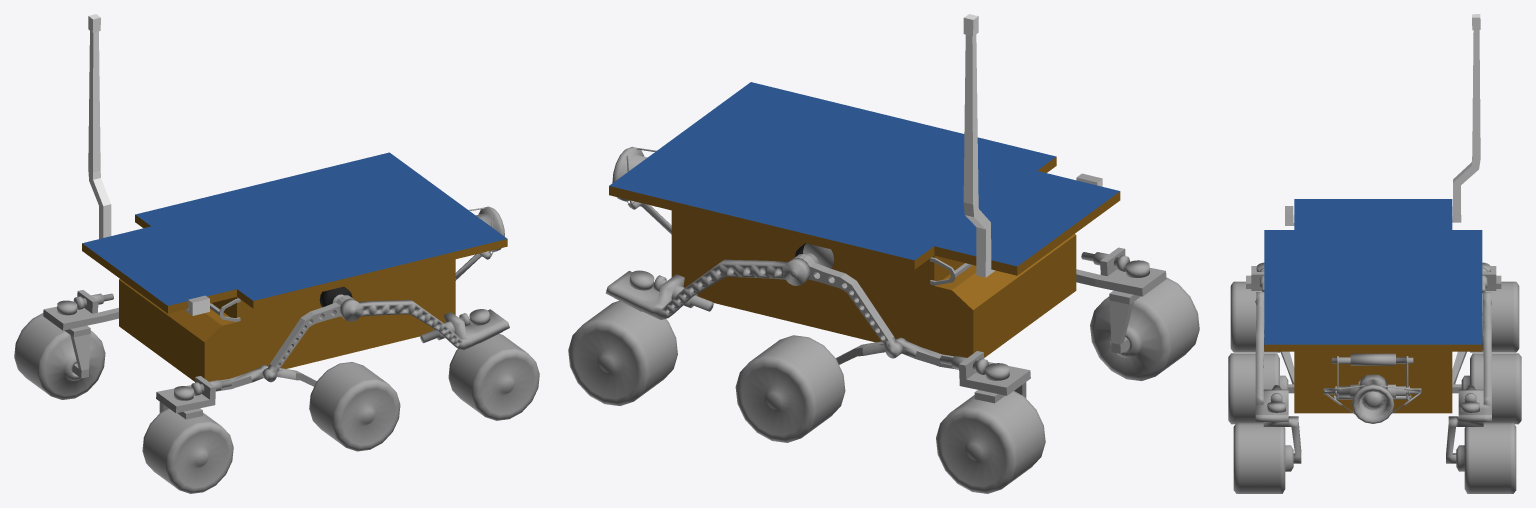
The model's file is sojourner-rover.glb.
The picture shows the model from 3 angles, left to right: view 1: azimuth 30°, elevation 25°; view 2: azimuth 150°, elevation 25°; view 3: azimuth 270°, elevation 25°; orthographic projection. The views are drawn at different scales.
Parts seen in each view (by area): view 1: Sojourner rover; view 2: Sojourner rover; view 3: Sojourner rover.
Boxes of the visible parts, x1,y1,x2,y2 form: Sojourner rover: (14, 14, 539, 493); Sojourner rover: (568, 14, 1199, 493); Sojourner rover: (1228, 14, 1521, 493).
Bounding box in the file's own units: 1.22 × 1.1 × 0.8378.
